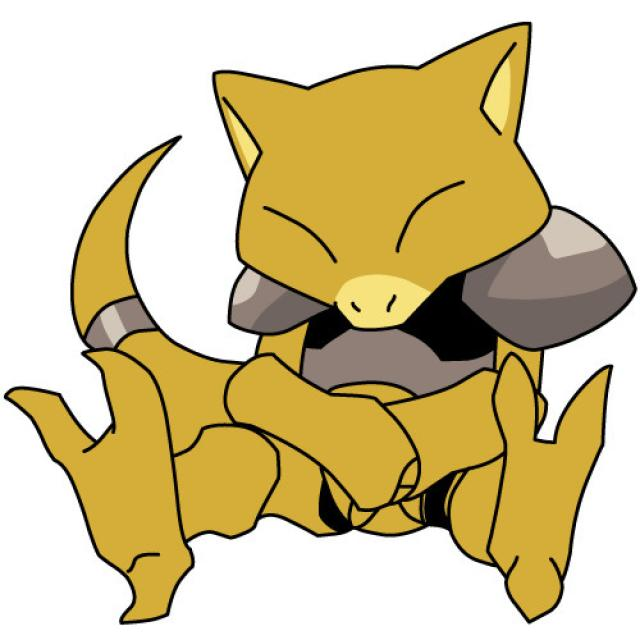Abra: (119, 63, 594, 590)
